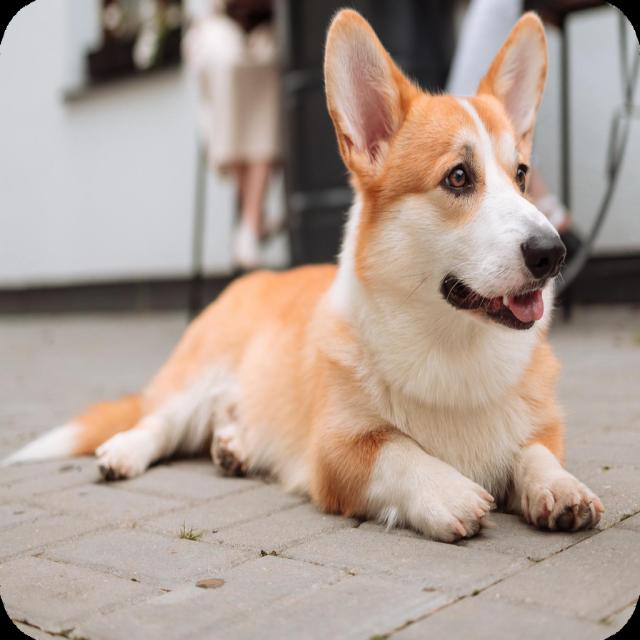CORGI: (54, 7, 610, 564)
